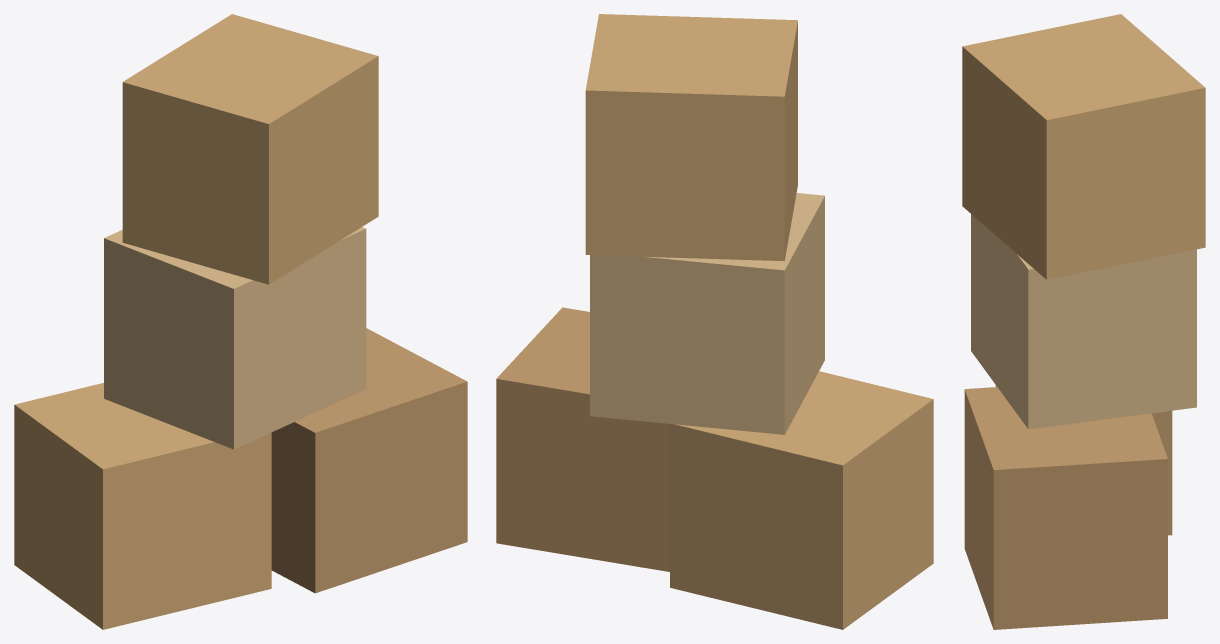
Rendered from box_pile.glb.
3 renders of one model, left to right at view 1: azimuth 30°, elevation 25°; view 2: azimuth 150°, elevation 25°; view 3: azimuth 270°, elevation 25°, orthographic. The views are drawn at different scales.
Parts seen in each view (by area): view 1: box; view 2: box; view 3: box.
Boxes of the visible parts, x1,y1,x2,y2 form: box: (14,14,467,629); box: (496,14,933,629); box: (962,14,1205,629).
Bounding box in the file's own units: 1.18 × 1.5 × 0.6895.
